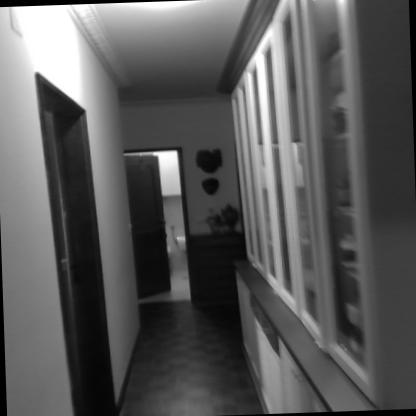semi: (112, 138, 197, 321)
